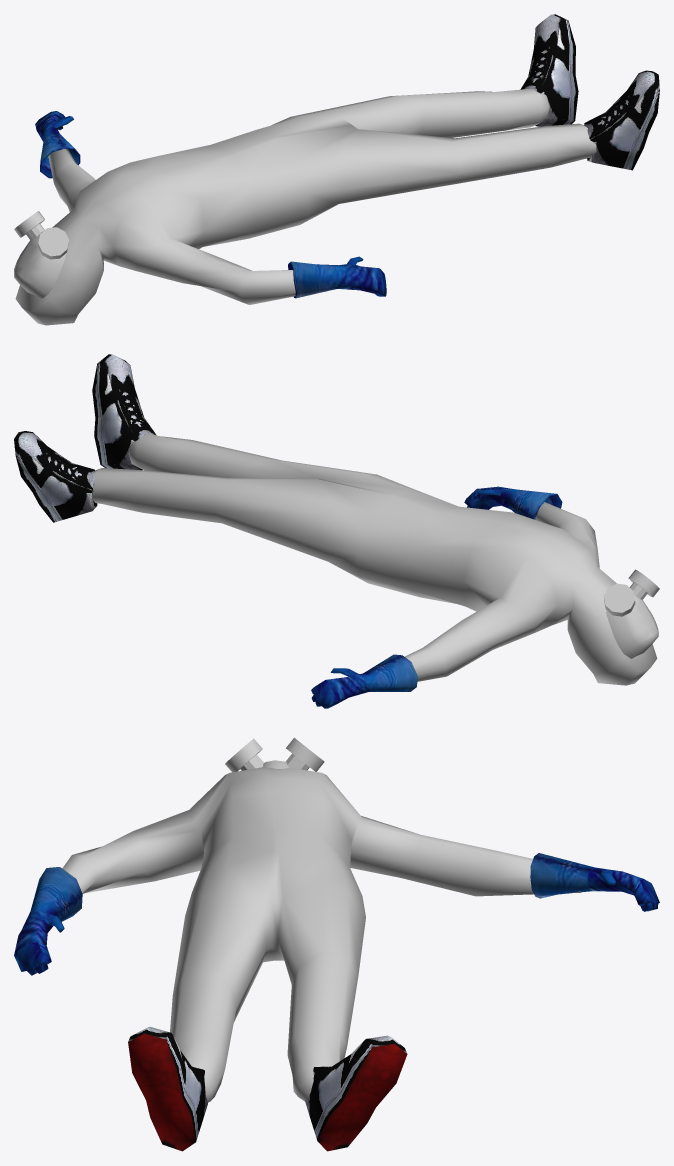
The model's file is crushed_meth_dealer.FBX.
The picture shows the model from 3 angles, top to bottom: view 1: azimuth 30°, elevation 25°; view 2: azimuth 150°, elevation 25°; view 3: azimuth 270°, elevation 25°; orthographic projection. The views are drawn at different scales.
Visible parts, largest first — view 1: body004, right_shoe004, left_shoe004, gas_mask004, right_glove004, left_glove004; view 2: body004, right_shoe004, left_shoe004, gas_mask004, left_glove004, right_glove004; view 3: body004, left_shoe004, right_shoe004, right_glove004, left_glove004, gas_mask004.
Part boxes in pixels (x1,y1,x2,y2): body004: (15, 88, 596, 325); right_shoe004: (584, 70, 659, 170); left_shoe004: (520, 14, 578, 126); gas_mask004: (14, 211, 69, 298); right_glove004: (288, 256, 386, 298); left_glove004: (35, 111, 80, 178); body004: (92, 433, 657, 685); right_shoe004: (92, 354, 156, 470); left_shoe004: (14, 431, 97, 522); gas_mask004: (603, 569, 659, 658); left_glove004: (311, 654, 417, 708); right_glove004: (464, 486, 562, 519); body004: (62, 767, 580, 1102); left_shoe004: (304, 1035, 407, 1151); right_shoe004: (128, 1027, 207, 1151); right_glove004: (14, 867, 82, 975); left_glove004: (530, 853, 659, 911); gas_mask004: (225, 737, 324, 772).
Bounding box in the file's own units: 127 × 31.54 × 94.4.
